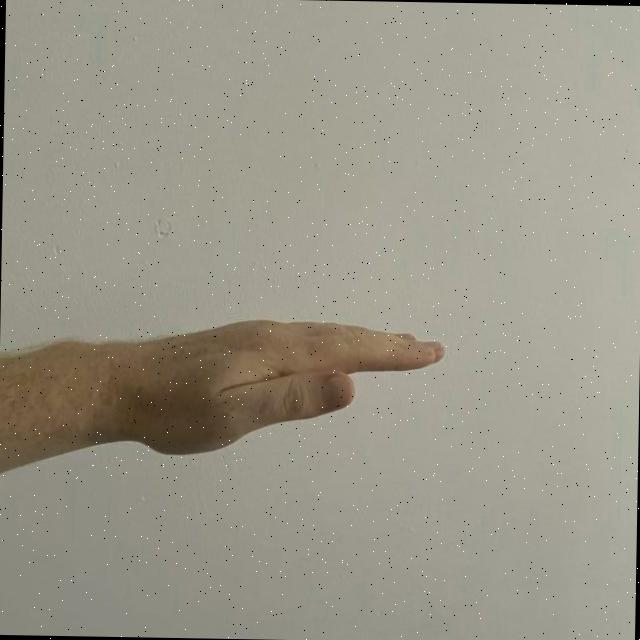papper: (81, 309, 452, 466)
